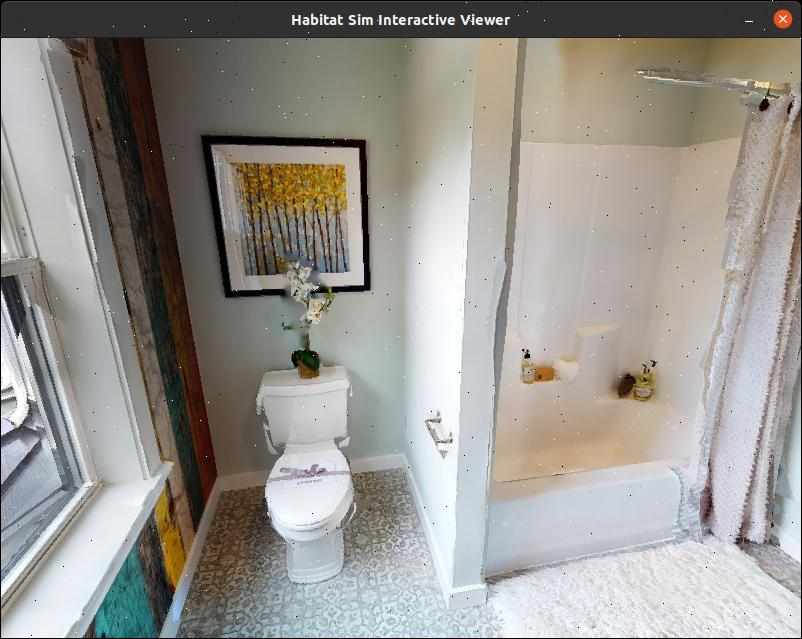shower: (456, 44, 719, 547)
toilet: (253, 357, 364, 580)
